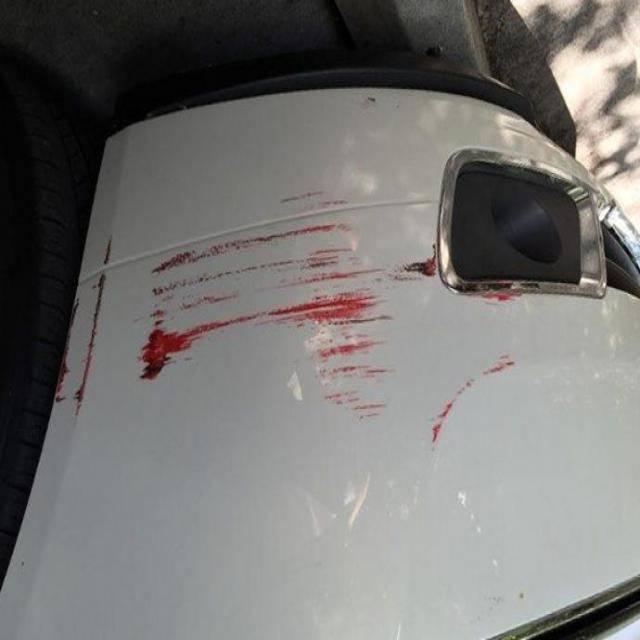scratch: (61, 205, 528, 447)
